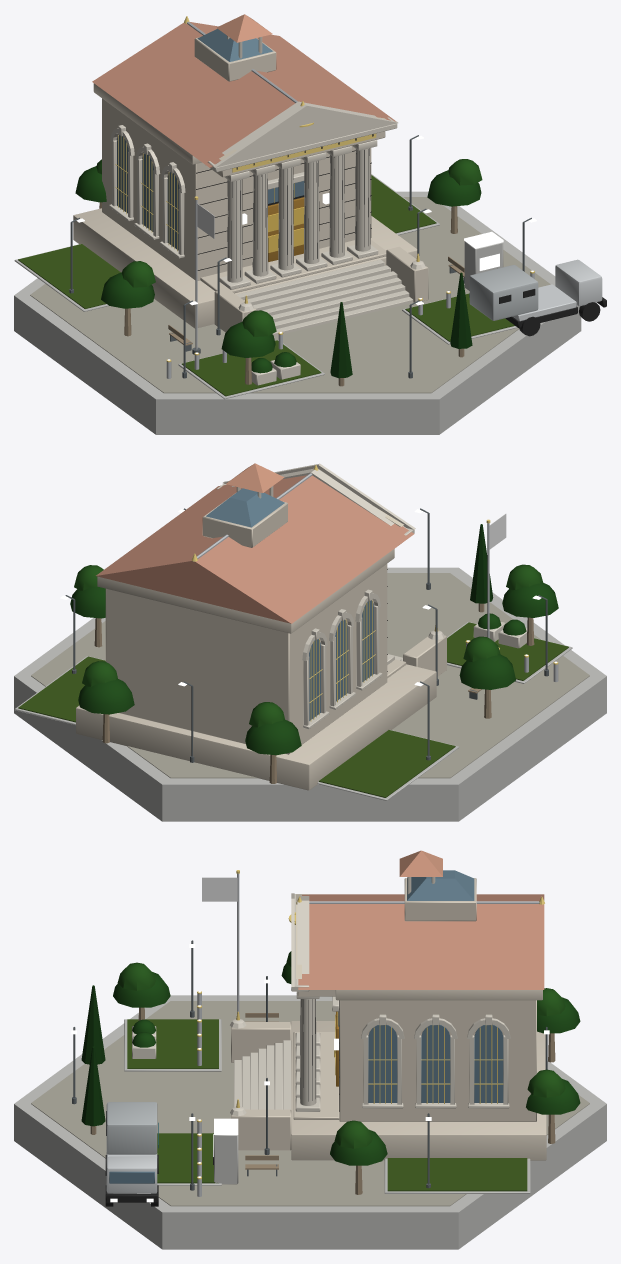
Rendered from bank_med.glb.
3 views of the same model, one above another, from view 1: azimuth 30°, elevation 25°; view 2: azimuth 150°, elevation 25°; view 3: azimuth 270°, elevation 25° (orthographic). The views are drawn at different scales.
Parts seen in each view (by area): view 1: stone, wall_concrete, pavers, roof_tile, turf, leaf, paint, dark, glass, gold, steel_dark, metal (+2 smaller); view 2: stone, wall_concrete, roof_tile, pavers, leaf, turf, glass, steel_dark, gold, wood, metal; view 3: stone, wall_concrete, pavers, roof_tile, turf, leaf, glass, paint, gold, metal, wood, steel_dark (+3 smaller).
Boxes of the visible parts, left/top/right/bottom form: stone: left=73, top=36, right=428, bottom=385; wall_concrete: left=14, top=174, right=581, bottom=434; pavers: left=30, top=197, right=550, bottom=393; roof_tile: left=92, top=14, right=396, bottom=167; turf: left=18, top=175, right=514, bottom=396; leaf: left=75, top=159, right=482, bottom=378; paint: left=469, top=259, right=602, bottom=321; dark: left=196, top=134, right=606, bottom=336; glass: left=117, top=28, right=304, bottom=250; gold: left=115, top=16, right=534, bottom=362; steel_dark: left=69, top=135, right=531, bottom=378; metal: left=166, top=21, right=534, bottom=378; stone: left=76, top=463, right=527, bottom=790; wall_concrete: left=14, top=567, right=606, bottom=821; roof_tile: left=96, top=463, right=413, bottom=623; pavers: left=31, top=573, right=589, bottom=778; leaf: left=70, top=524, right=558, bottom=755; turf: left=18, top=622, right=568, bottom=797; glass: left=206, top=488, right=373, bottom=720; steel_dark: left=65, top=508, right=548, bottom=762; gold: left=191, top=465, right=558, bottom=721; wood: left=94, top=603, right=534, bottom=783; metal: left=192, top=473, right=558, bottom=681; stone: left=132, top=877, right=546, bottom=1160; wall_concrete: left=14, top=995, right=606, bottom=1249; pavers: left=31, top=1001, right=589, bottom=1206; roof_tile: left=298, top=850, right=544, bottom=989; turf: left=127, top=1019, right=527, bottom=1191; leaf: left=81, top=951, right=580, bottom=1165; glass: left=109, top=870, right=503, bottom=1183; paint: left=106, top=1102, right=158, bottom=1193; gold: left=197, top=870, right=544, bottom=1179; metal: left=197, top=873, right=539, bottom=1196; wood: left=90, top=1007, right=555, bottom=1194; steel_dark: left=72, top=940, right=547, bottom=1190.
Bounding box in the file's own units: 21.3 × 13.3 × 24.6.
